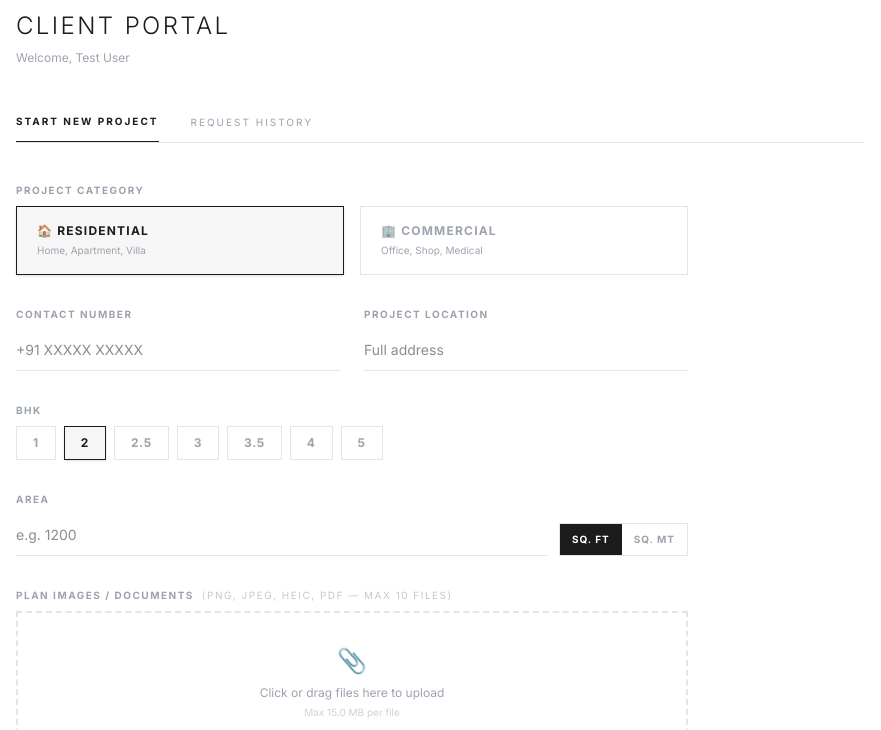
Test: TrackRequestPage — NEW additional cases › renders request history cards with status and details
This screenshot has width=881, height=730.
Click the button "Request History": (252, 128) [190,114,313,142]
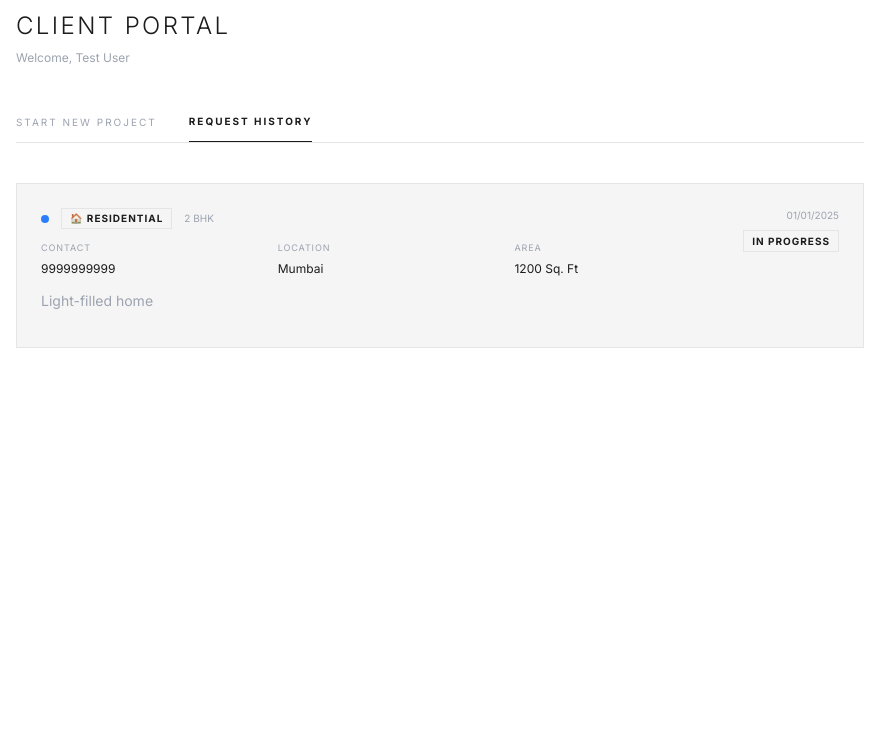
Expected: the text "In Progress" is shown, [743,230,839,252]
Expected: the text "9999999999" is shown, [41,260,115,276]
Expected: the text "Mumbai" is shown, [278,260,323,276]
